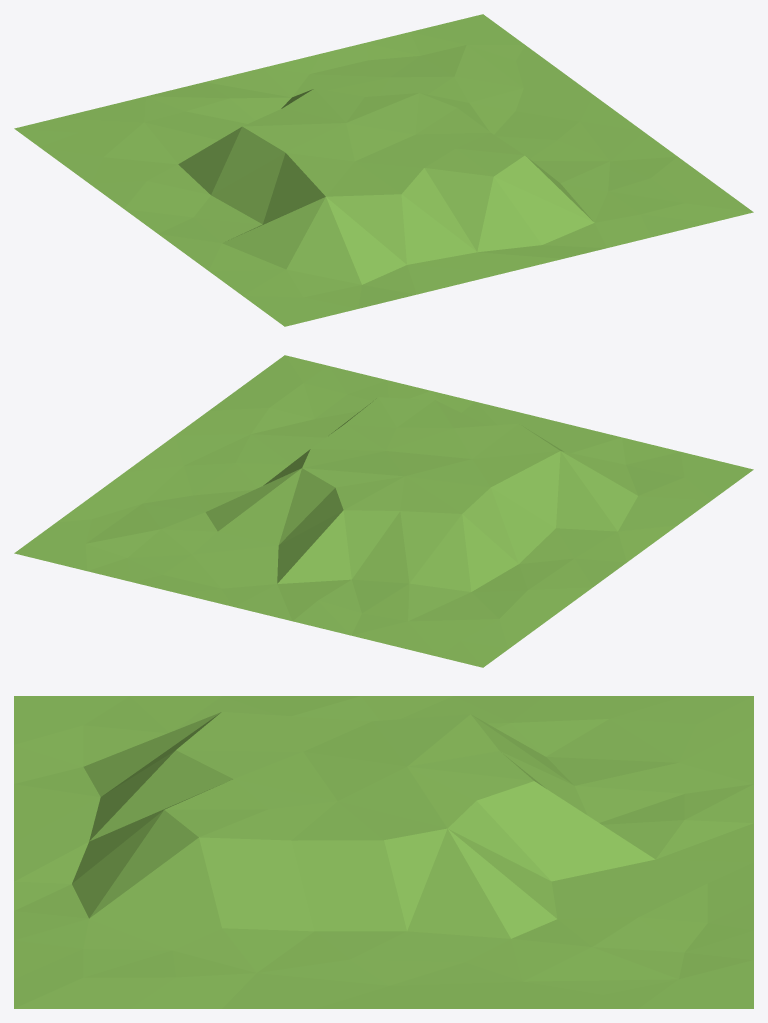
File: MT_Terrain_S_c_17.fbx
3 renders of one model, top to bottom at view 1: azimuth 30°, elevation 25°; view 2: azimuth 150°, elevation 25°; view 3: azimuth 270°, elevation 25°, orthographic. The views are drawn at different scales.
Visible parts, largest first — view 1: MT_Terrain_S_c_17; view 2: MT_Terrain_S_c_17; view 3: MT_Terrain_S_c_17.
Part boxes in pixels (x1,y1,x2,y2): MT_Terrain_S_c_17: (14,14,753,326); MT_Terrain_S_c_17: (14,355,753,667); MT_Terrain_S_c_17: (14,696,753,1008).
Size of the model in its own units: 2500 by 255 by 2500.
